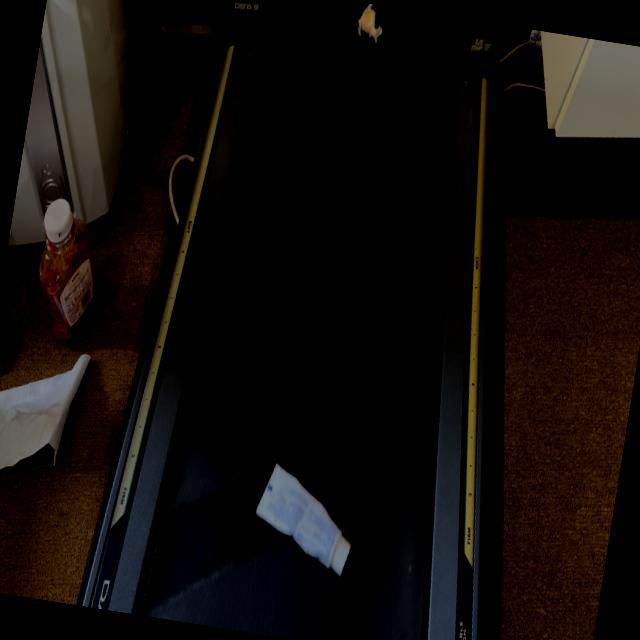Trash: (248, 461, 368, 582), (354, 8, 391, 52)
